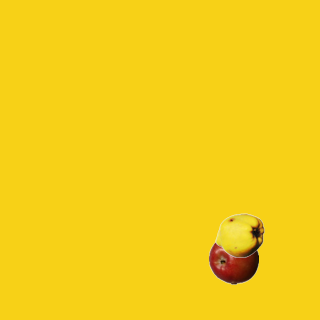Apple Braeburn: (208, 234, 258, 284)
Quince: (214, 210, 264, 260)
